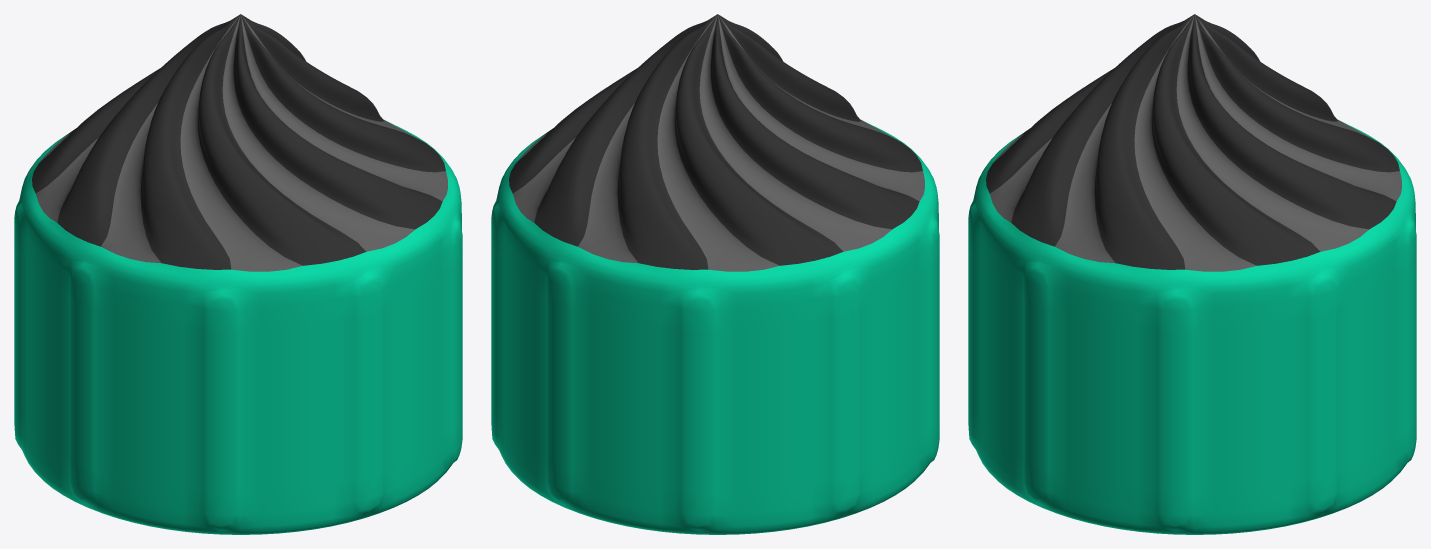
File: drill_piece.FBX
3 renders of one model, left to right at view 1: azimuth 30°, elevation 25°; view 2: azimuth 150°, elevation 25°; view 3: azimuth 270°, elevation 25°, orthographic.
Visible parts, largest first — view 1: Cylinder007; view 2: Cylinder007; view 3: Cylinder007.
Part boxes in pixels (x1,y1,x2,y2): Cylinder007: [14, 14, 462, 534]; Cylinder007: [491, 14, 939, 534]; Cylinder007: [968, 14, 1416, 534].
Size of the model in its own units: 61.09 by 65.54 by 61.09.
